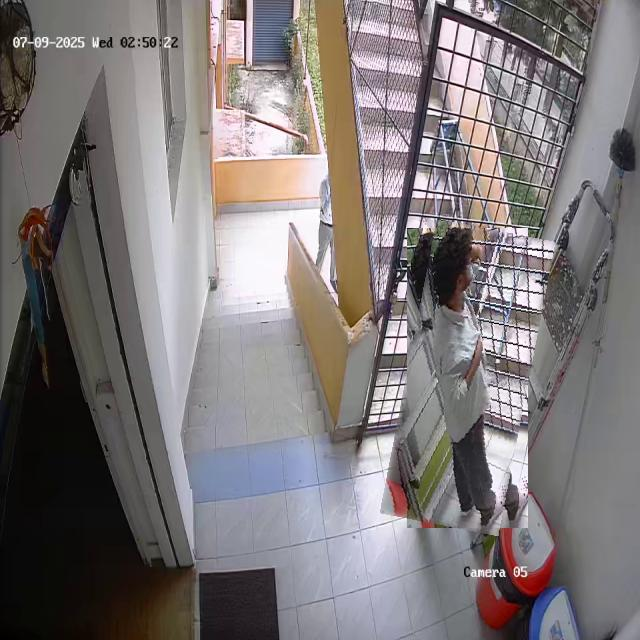person: (393, 224, 542, 532)
